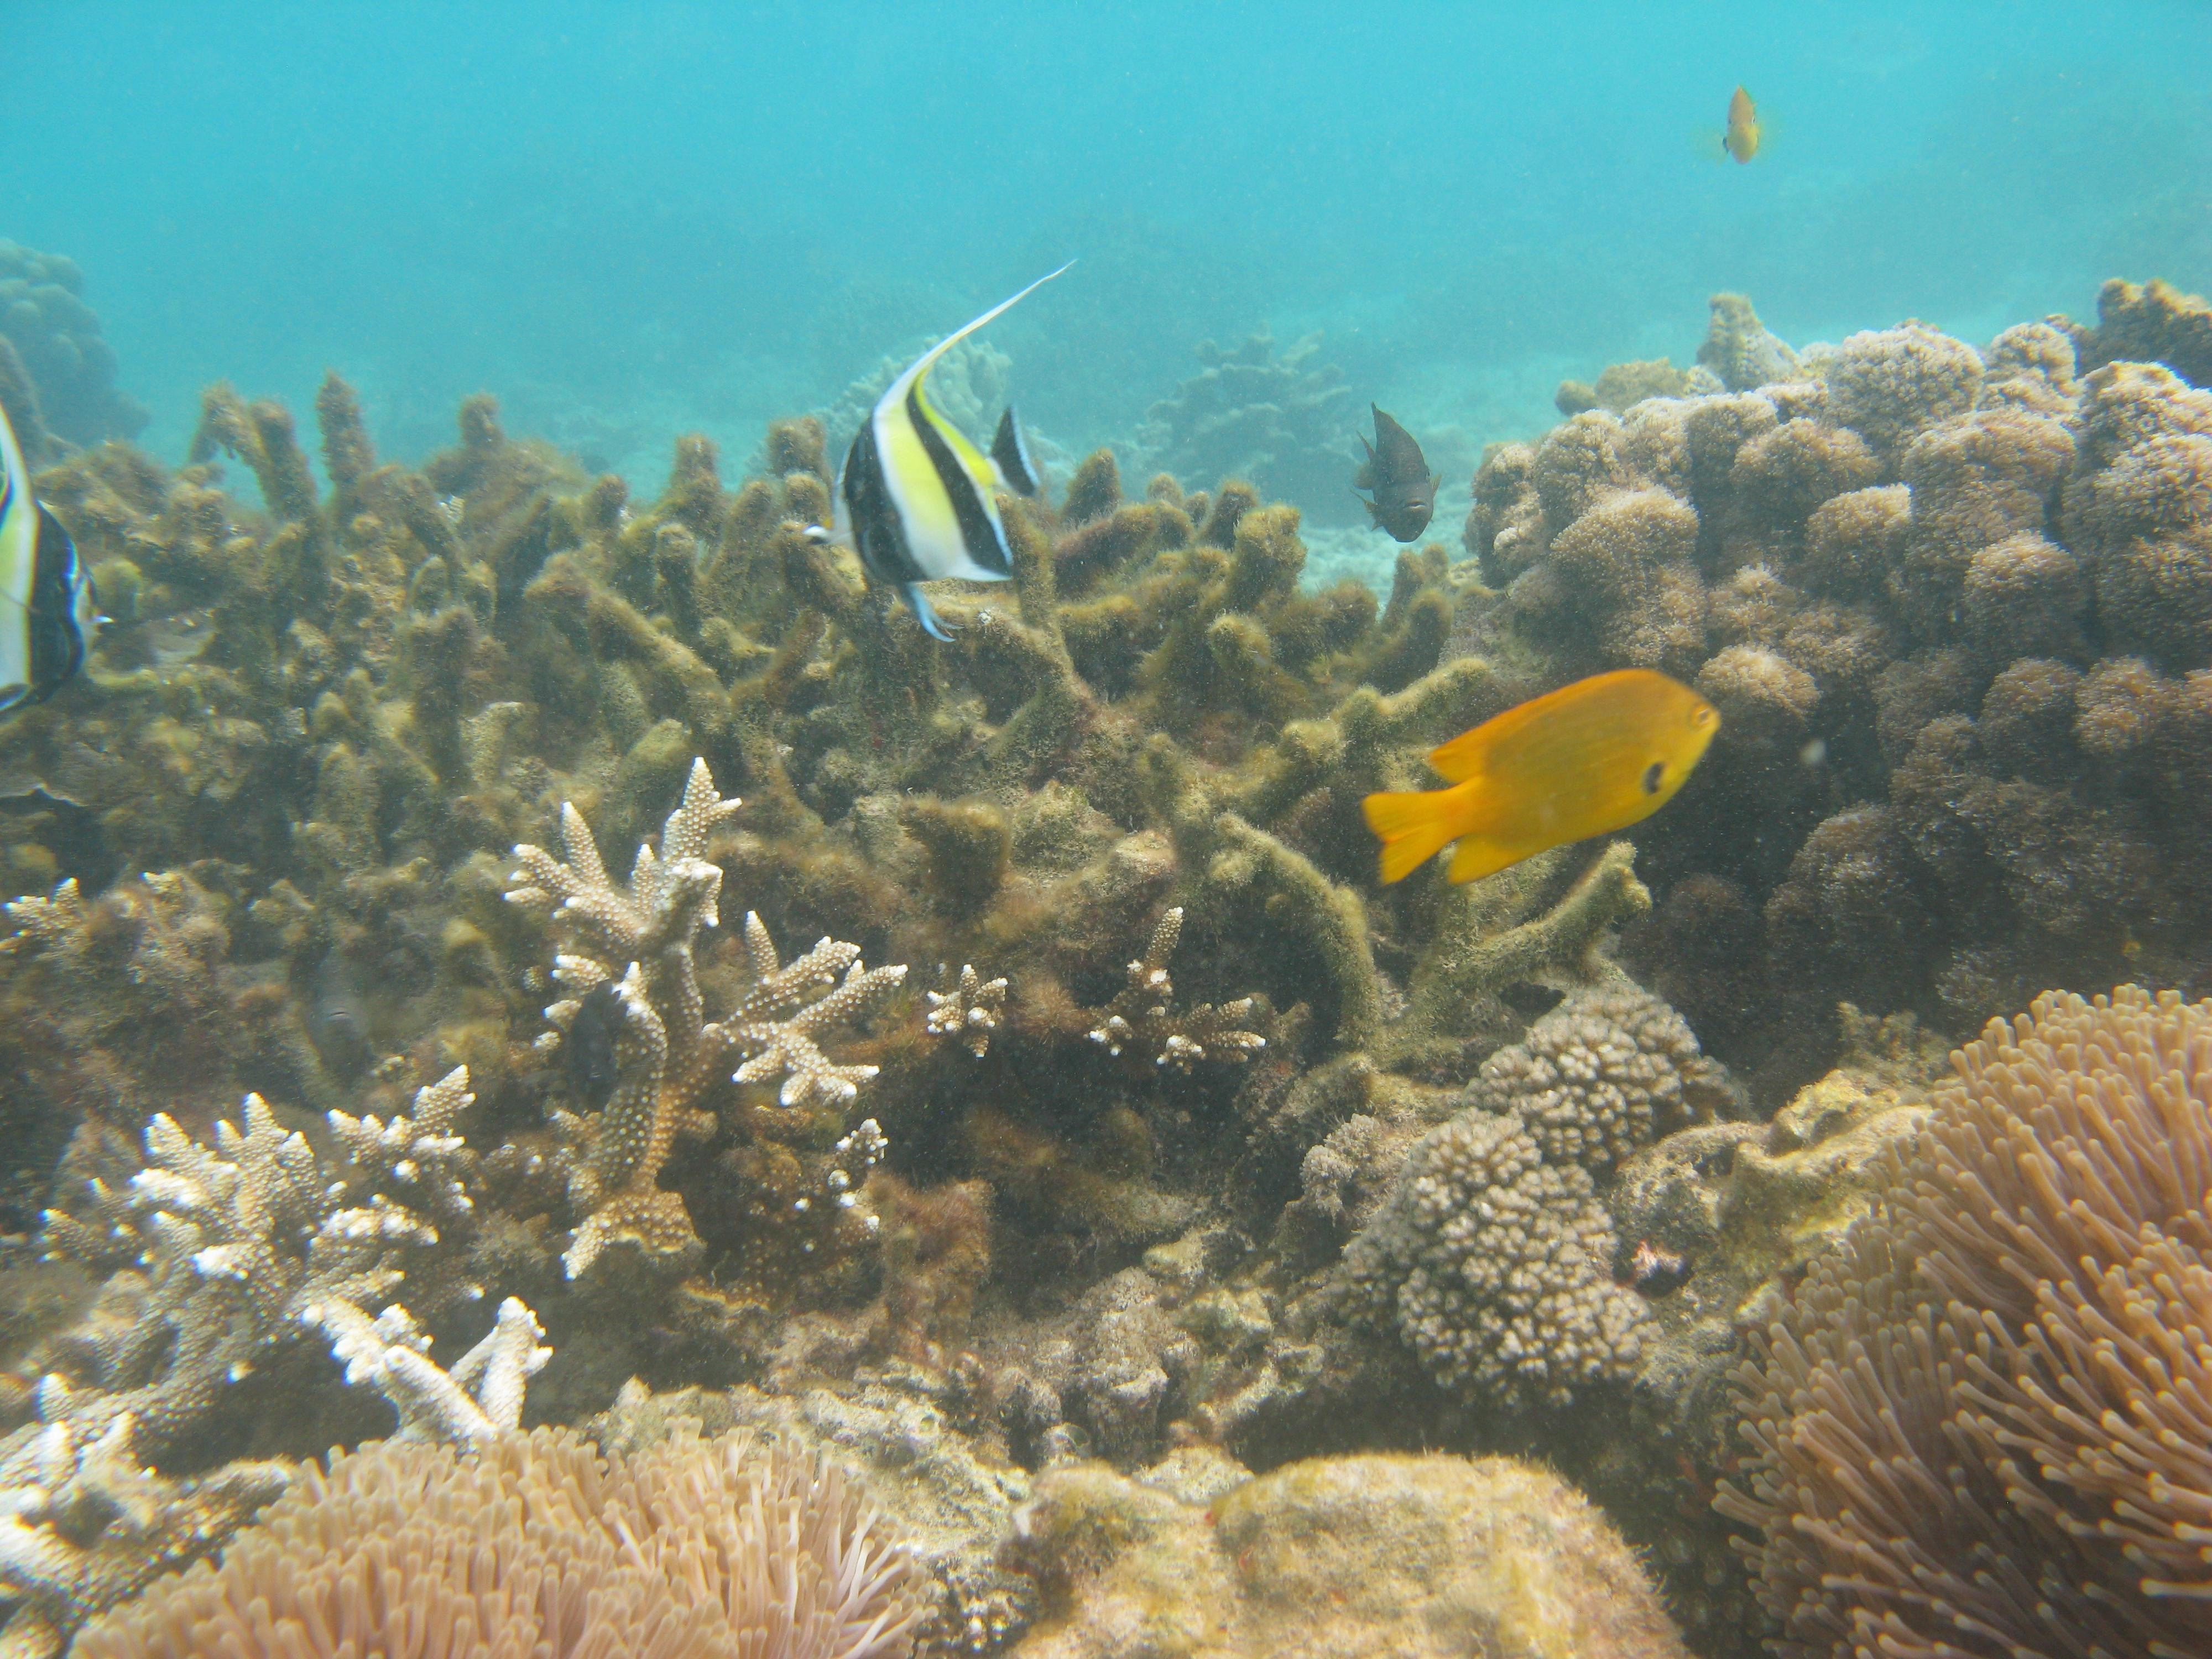Fish: (1359, 667, 1747, 899)
